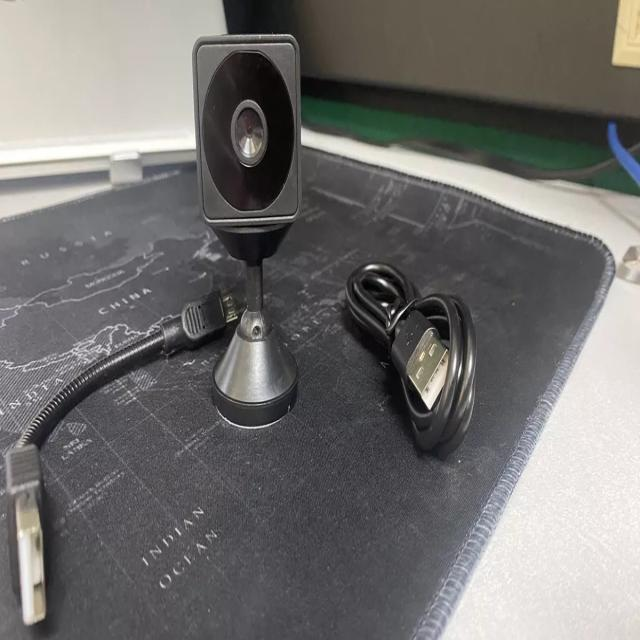hidden camera: (229, 101, 269, 173)
